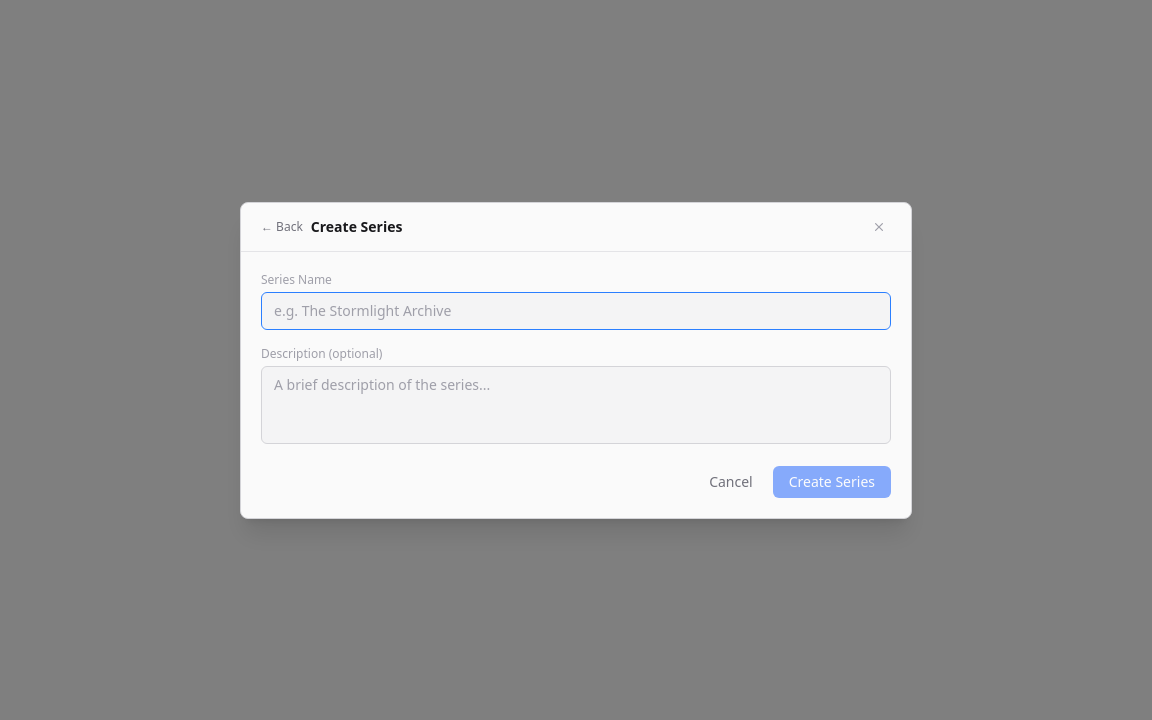
Test: SeriesModal › creating a series opens it in edit mode
The image size is (1152, 720).
In the field labelled "Series Name": (576, 310) x1=261 y1=292 x2=891 y2=330, type "The Saga"
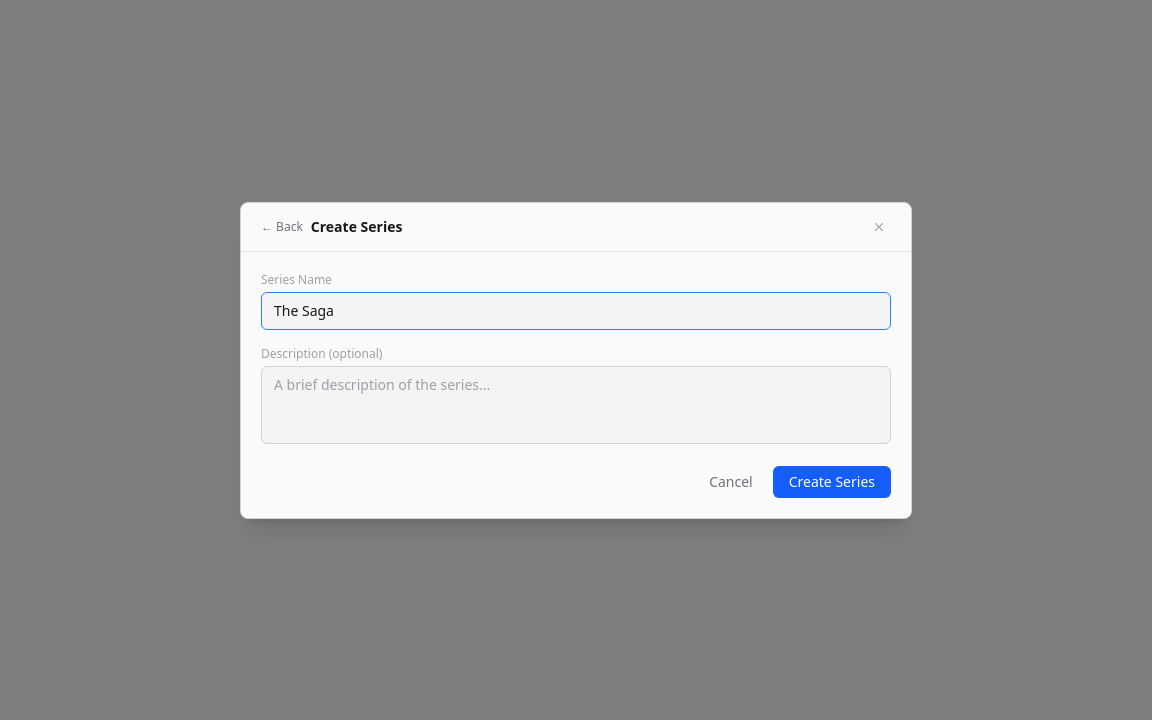
Click the button "Create Series": click(832, 482) x1=773 y1=466 x2=891 y2=498
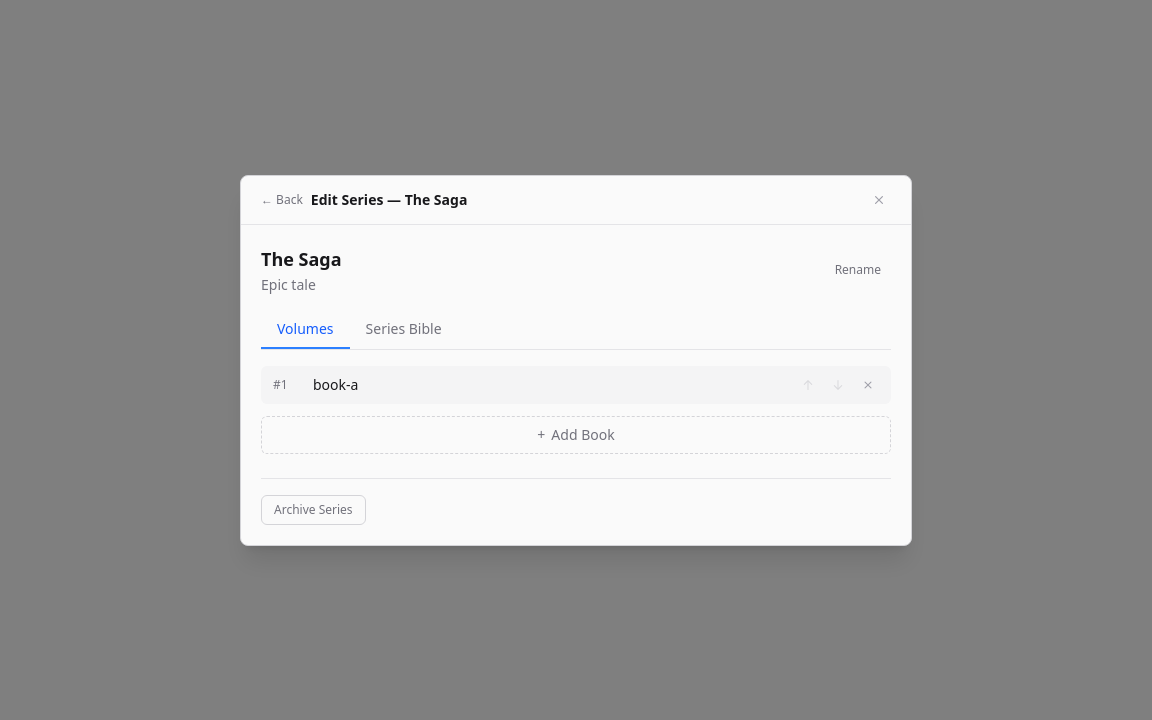
expect the heading "Edit Series — The Saga" is shown: met, box x1=311 y1=190 x2=467 y2=210
